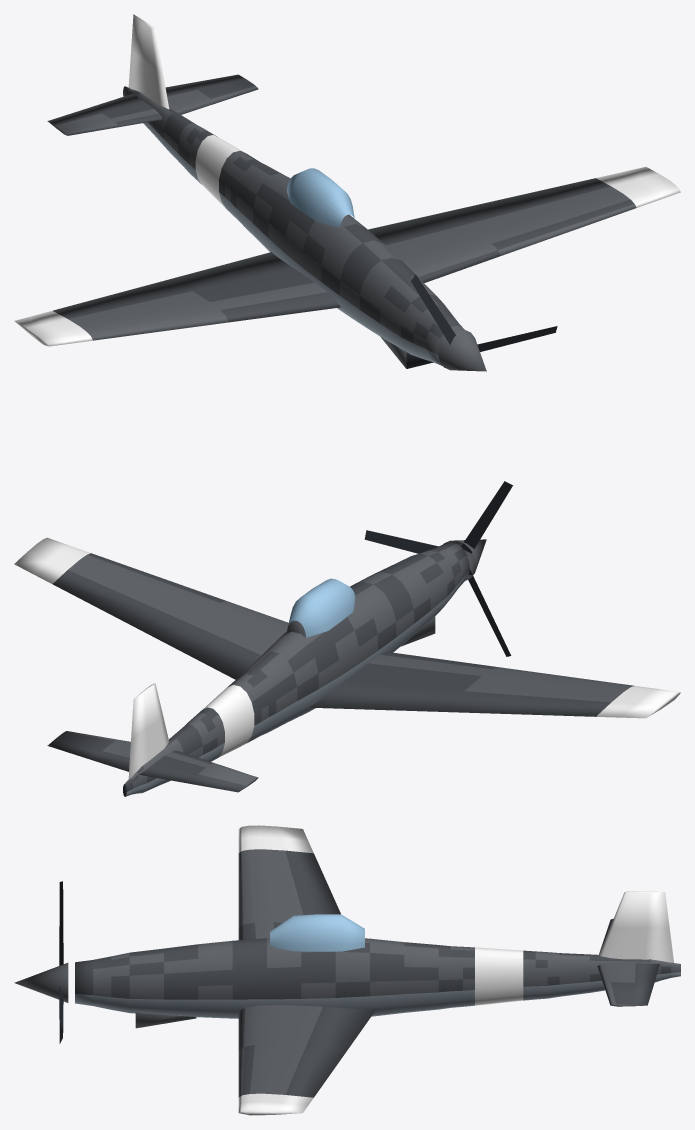
3 renders of one model, top to bottom at view 1: azimuth 30°, elevation 25°; view 2: azimuth 150°, elevation 25°; view 3: azimuth 270°, elevation 25°, orthographic. The views are drawn at different scales.
Parts seen in each view (by area): view 1: body, prop; view 2: body, prop; view 3: body, prop.
Boxes of the visible parts, <box> form: body: <box>14,14,680,368</box>; prop: <box>411,274,557,371</box>; body: <box>14,537,680,796</box>; prop: <box>364,481,512,656</box>; body: <box>75,825,680,1115</box>; prop: <box>14,881,68,1043</box>.
Bounding box in the file's own units: 9.92 × 2.81 × 9.84.
